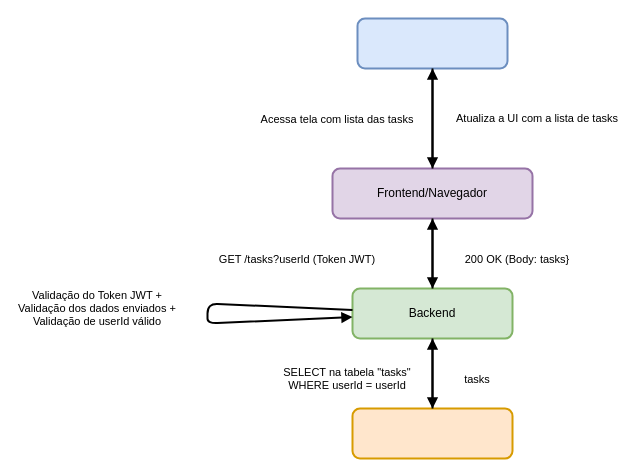
Image size: 636x476. Some labels were removed from this diagram. Each missing label, with the centre of its shape:
Banco de Dados: [432,433]
Usuário: [432,43]
